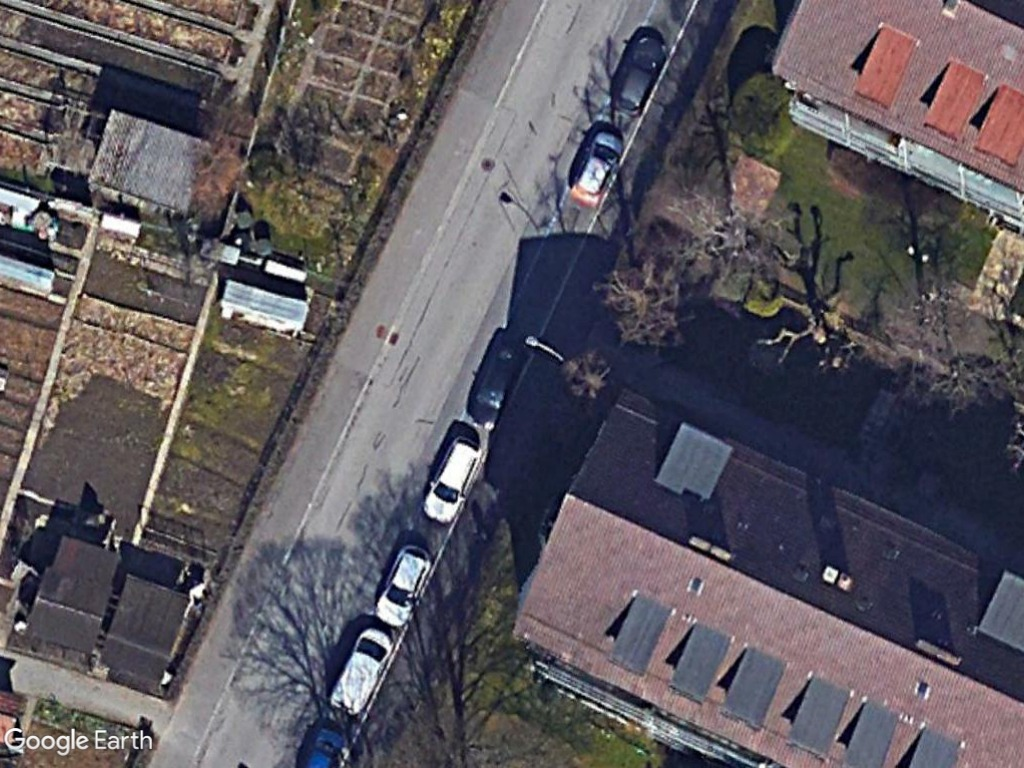car: (420, 436, 484, 526), (608, 32, 668, 118), (375, 542, 432, 629), (574, 129, 627, 200)
van: (325, 625, 395, 715)
